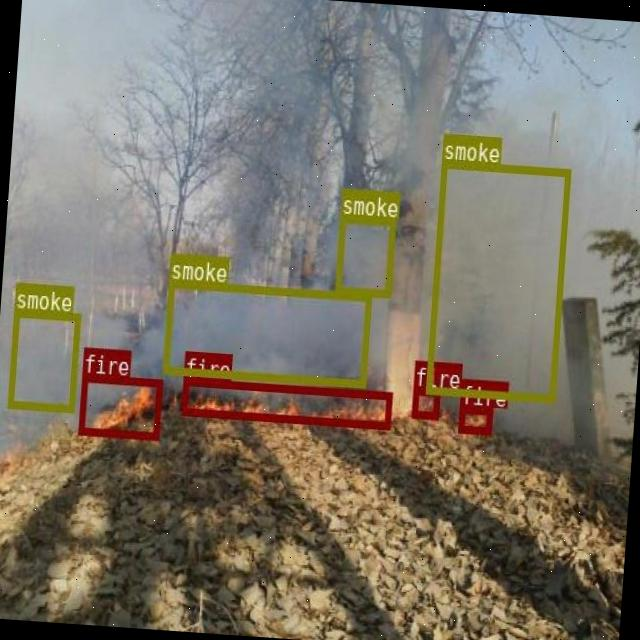fire: (179, 378, 391, 428), (77, 372, 162, 438), (458, 404, 492, 433), (411, 386, 438, 418)
smoke: (425, 160, 569, 402), (162, 278, 370, 386), (6, 308, 79, 411), (334, 214, 393, 296)
